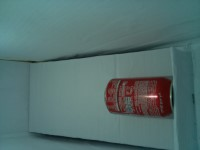kaleng: (104, 77, 174, 117)
